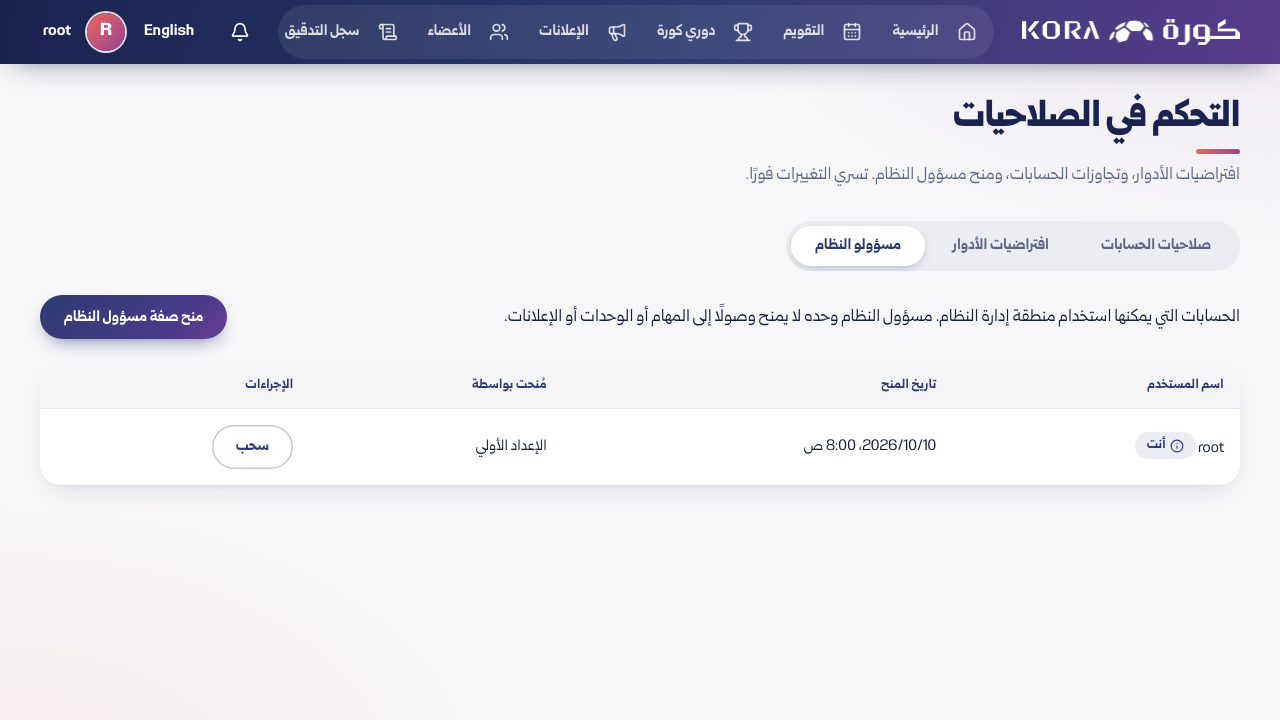
Test: System Admin: access control › surfaces the final-System-Admin conflict on revoke
The width and height of the screenshot is (1280, 720).
Click the button "سحب" at (253,447), box left=212, top=425, right=293, bottom=469
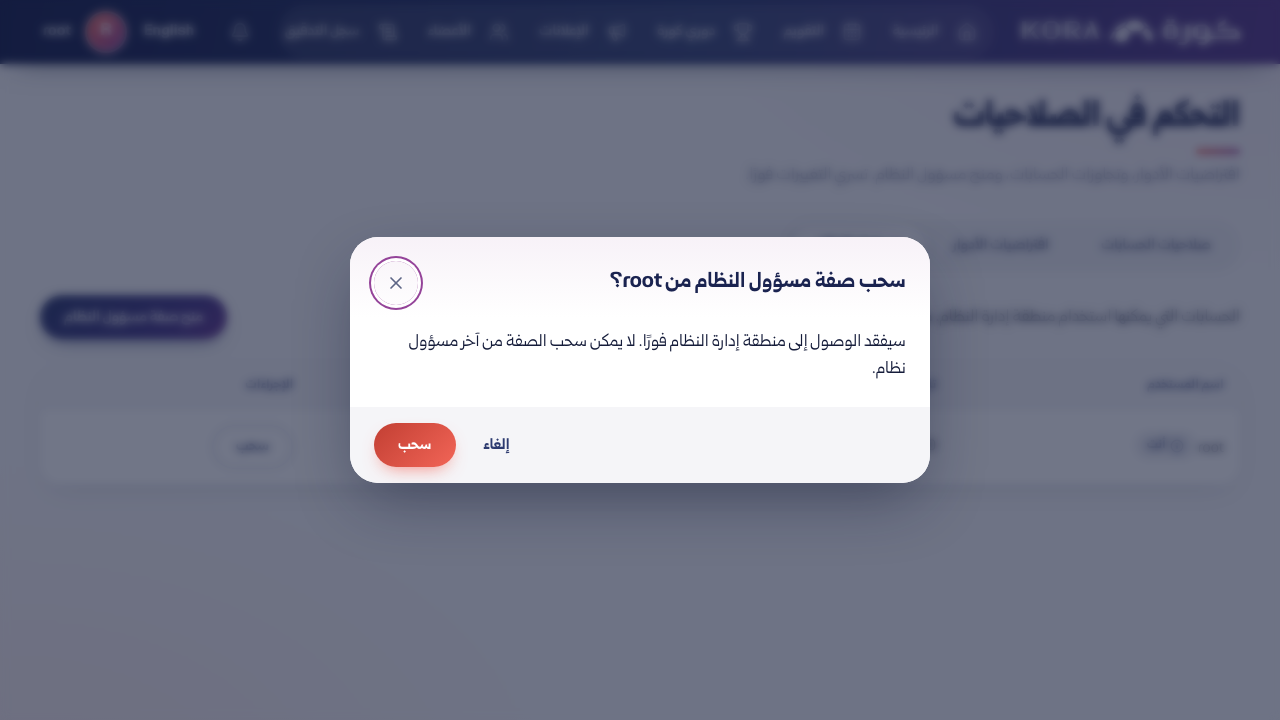
Click the button "سحب" at (415,445), box left=374, top=423, right=456, bottom=467
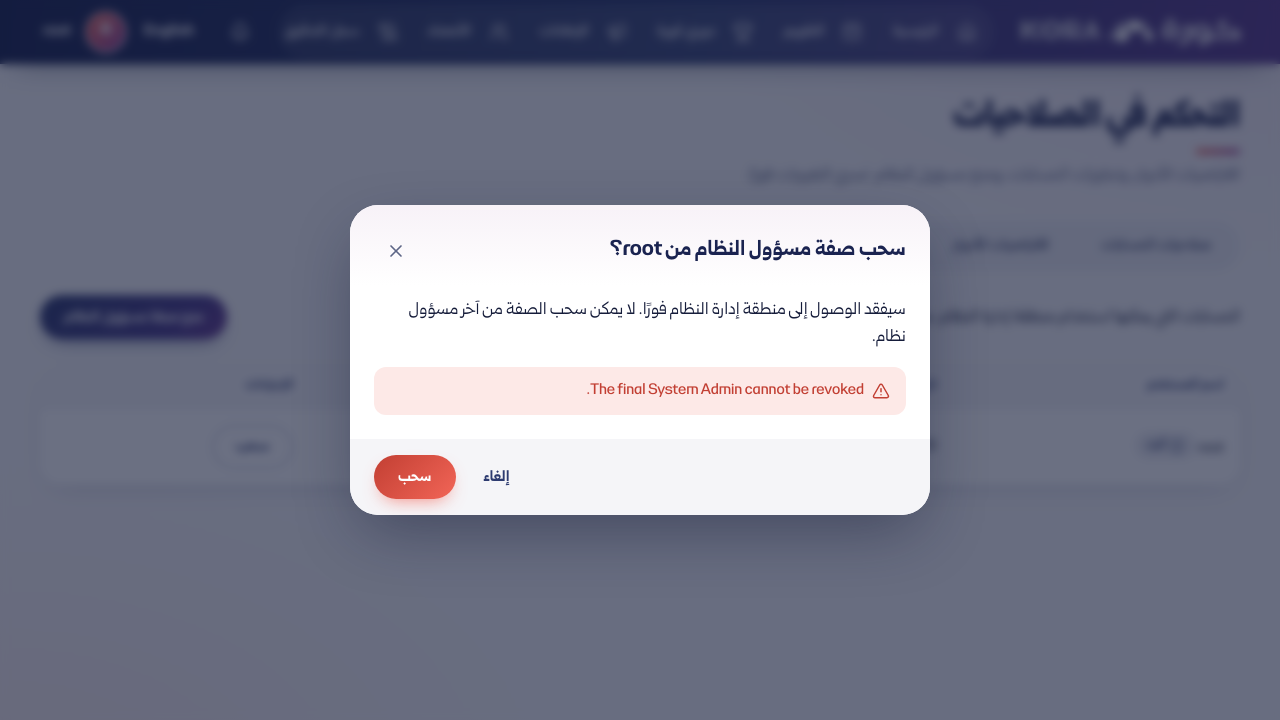
expect the message reads "The final System Admin cannot be revoked.": met, box left=586, top=380, right=864, bottom=401
